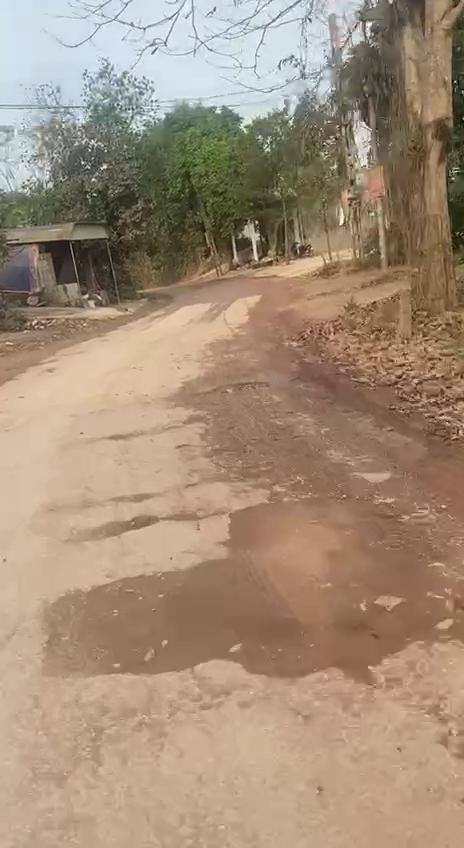pothole: (37, 478, 452, 690)
